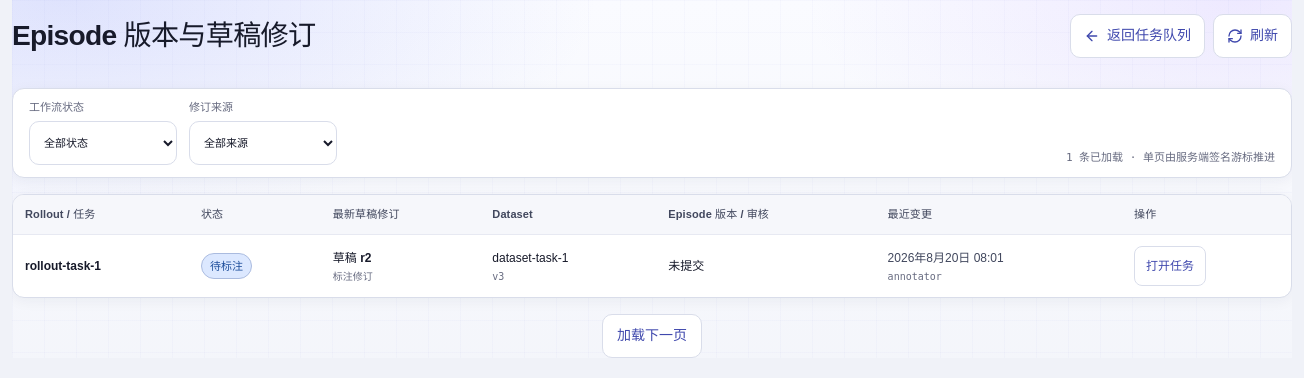
Test case: AnnotationRevisionPage › loads the bounded revision index, exposes exact task navigation, and fetches only the next cursor page
This screenshot has width=1304, height=378.
expect the heading "Episode 版本与草稿修订" is shown: met, box [12,20,316,52]
expect the text "rollout-task-1" is shown: met, box [25,259,101,273]
What coordinates should you click on to do the following:
click the button "加载下一页"
I would click on:
 (652, 336)
Its box is [602,314,702,358].
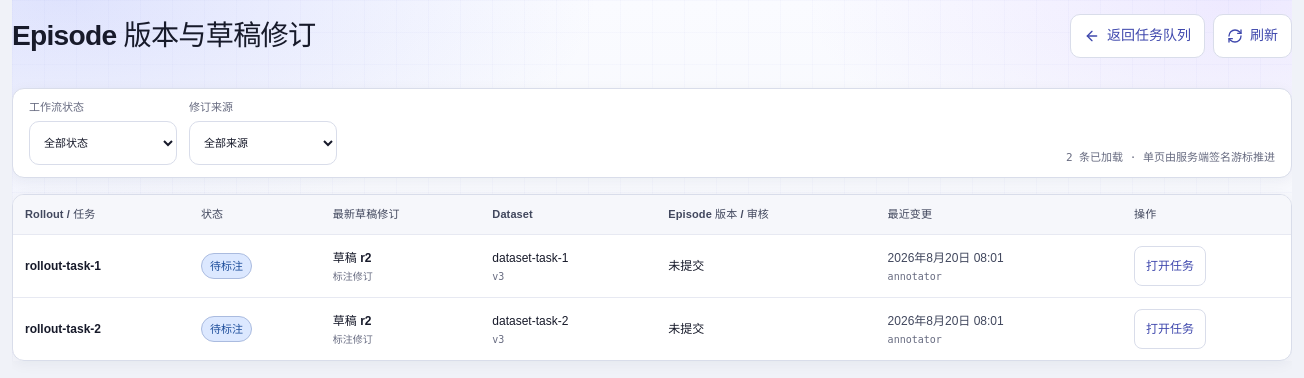
expect the text "rollout-task-2" is shown: met, box [25,322,101,336]
